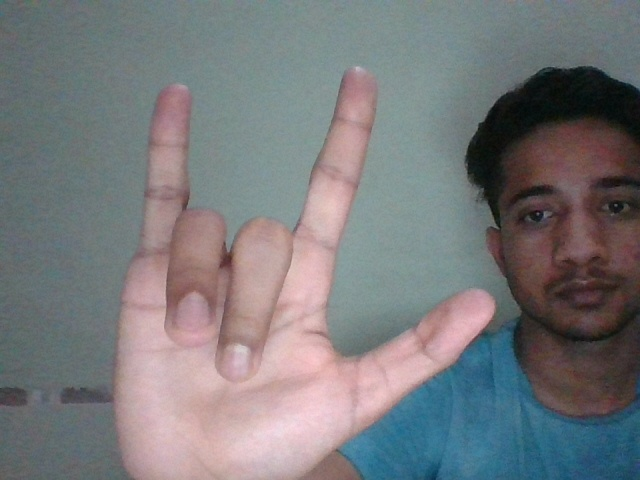iloveyou: (114, 65, 492, 480)
